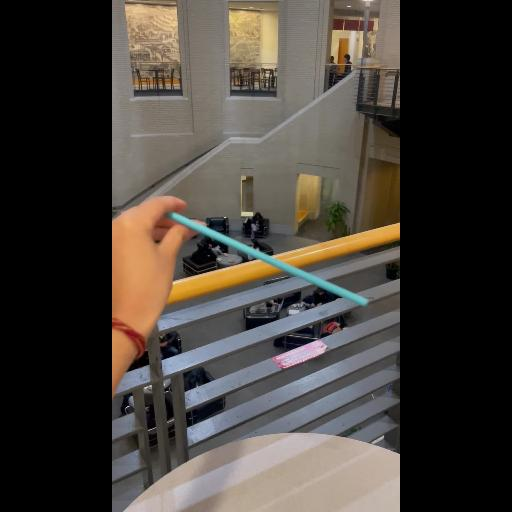straw: (164, 212, 366, 304)
